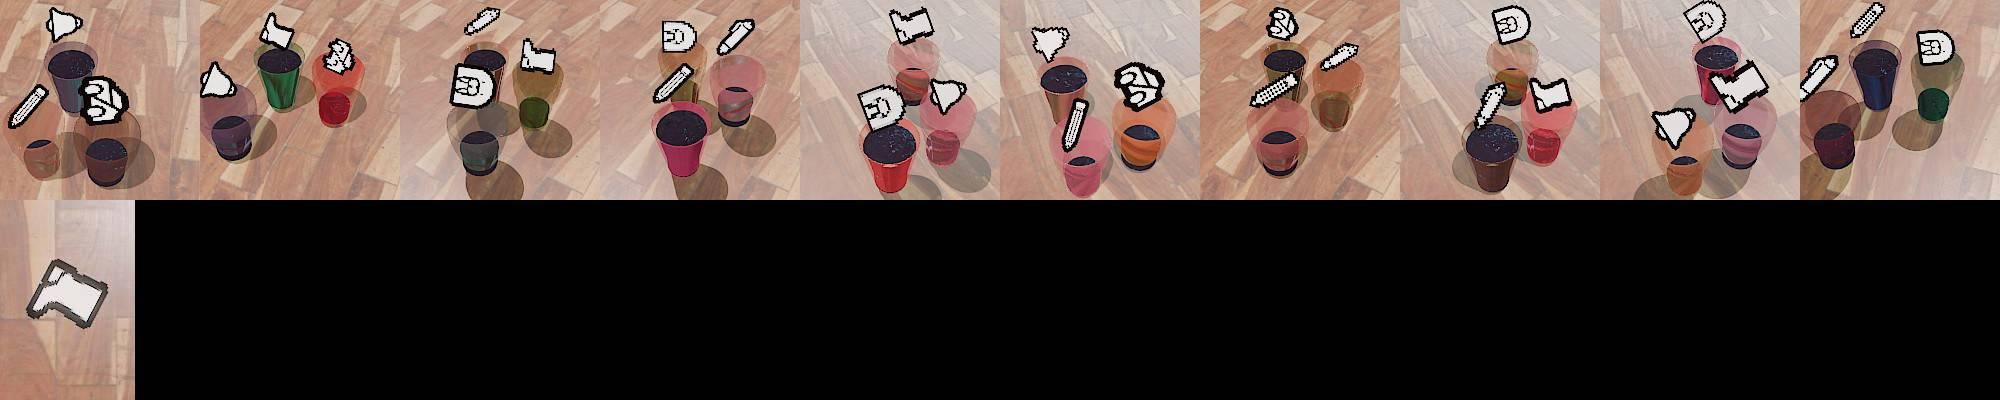icon: (26, 257, 111, 330), (1707, 59, 1770, 113), (1112, 61, 1165, 112), (78, 75, 129, 126), (857, 83, 908, 130), (1652, 104, 1698, 150), (450, 64, 496, 108), (1471, 79, 1508, 130), (1249, 71, 1300, 108), (1682, 0, 1727, 42), (888, 5, 934, 46), (8, 84, 48, 130), (1528, 74, 1573, 115), (1800, 54, 1839, 99), (653, 62, 695, 104), (927, 75, 967, 117), (1491, 5, 1531, 47), (1031, 24, 1071, 64), (1061, 96, 1089, 153), (717, 18, 756, 57), (1915, 29, 1957, 66), (260, 11, 297, 52), (519, 37, 557, 75), (199, 61, 236, 99), (661, 19, 698, 56), (1851, 1, 1886, 39), (1320, 41, 1360, 75), (46, 8, 83, 43), (1265, 5, 1300, 42), (323, 38, 355, 74), (464, 6, 500, 37)
